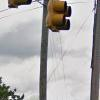Traffic light: (37, 0, 84, 36)
